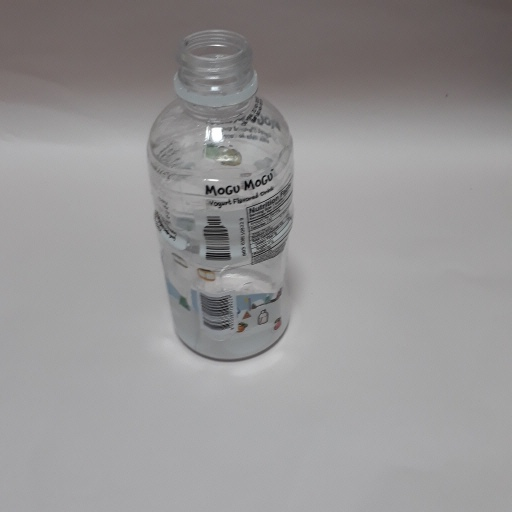Plastic_0: (146, 27, 301, 364)
